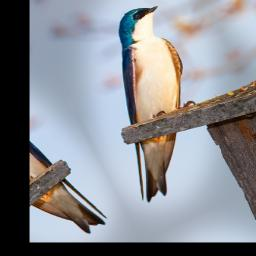Swallow: (61, 0, 238, 207)
